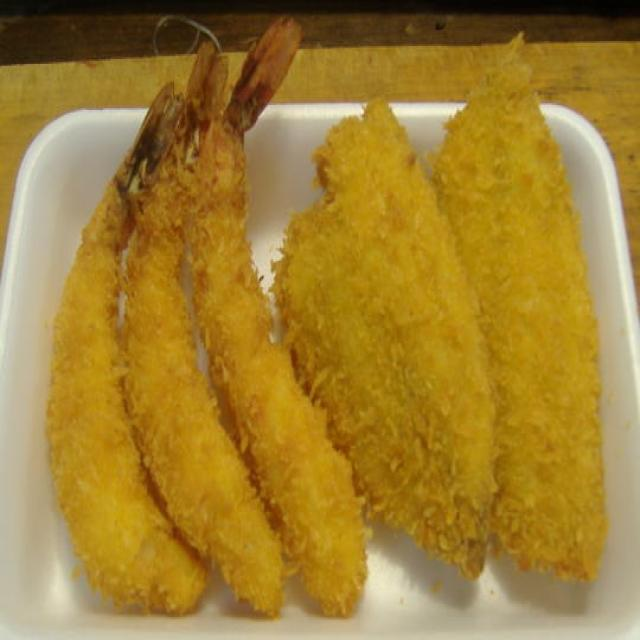炸货点心: (0, 125, 640, 594)
熟制海鲜: (0, 125, 640, 594)
